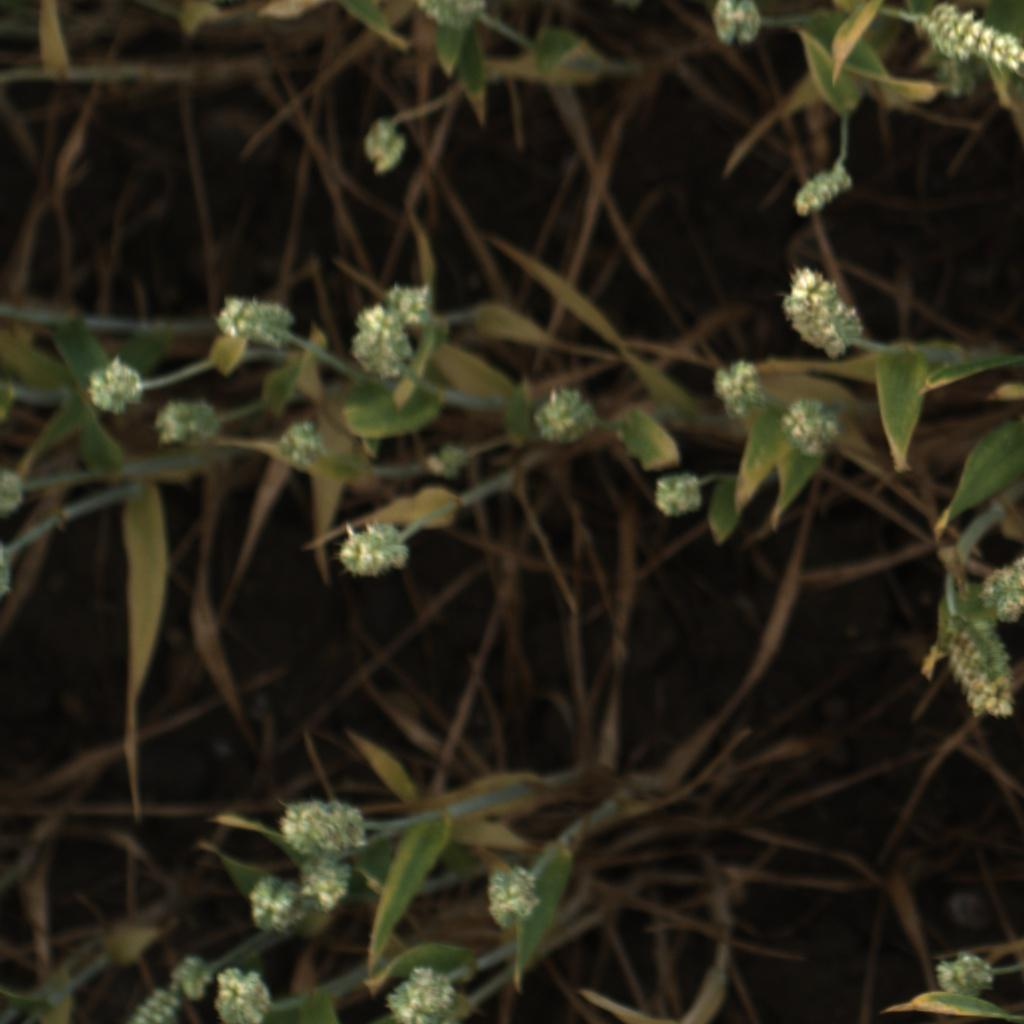0-0: (780, 267, 870, 362), (921, 1, 1024, 83), (944, 624, 1019, 721), (273, 791, 375, 861), (374, 959, 466, 1024), (347, 302, 420, 381), (213, 290, 303, 351), (331, 518, 410, 586), (476, 869, 551, 934), (242, 873, 314, 940), (785, 162, 861, 225), (776, 396, 847, 461), (709, 356, 776, 424), (79, 356, 149, 421), (533, 385, 603, 449), (152, 395, 221, 456), (356, 113, 419, 178), (384, 275, 452, 335), (646, 468, 715, 524), (299, 860, 365, 917), (929, 949, 998, 1001), (212, 968, 276, 1024), (164, 949, 220, 1007), (974, 557, 1024, 620), (272, 413, 330, 467), (706, 0, 764, 48), (400, 0, 492, 29), (115, 993, 187, 1024), (419, 438, 465, 478)
